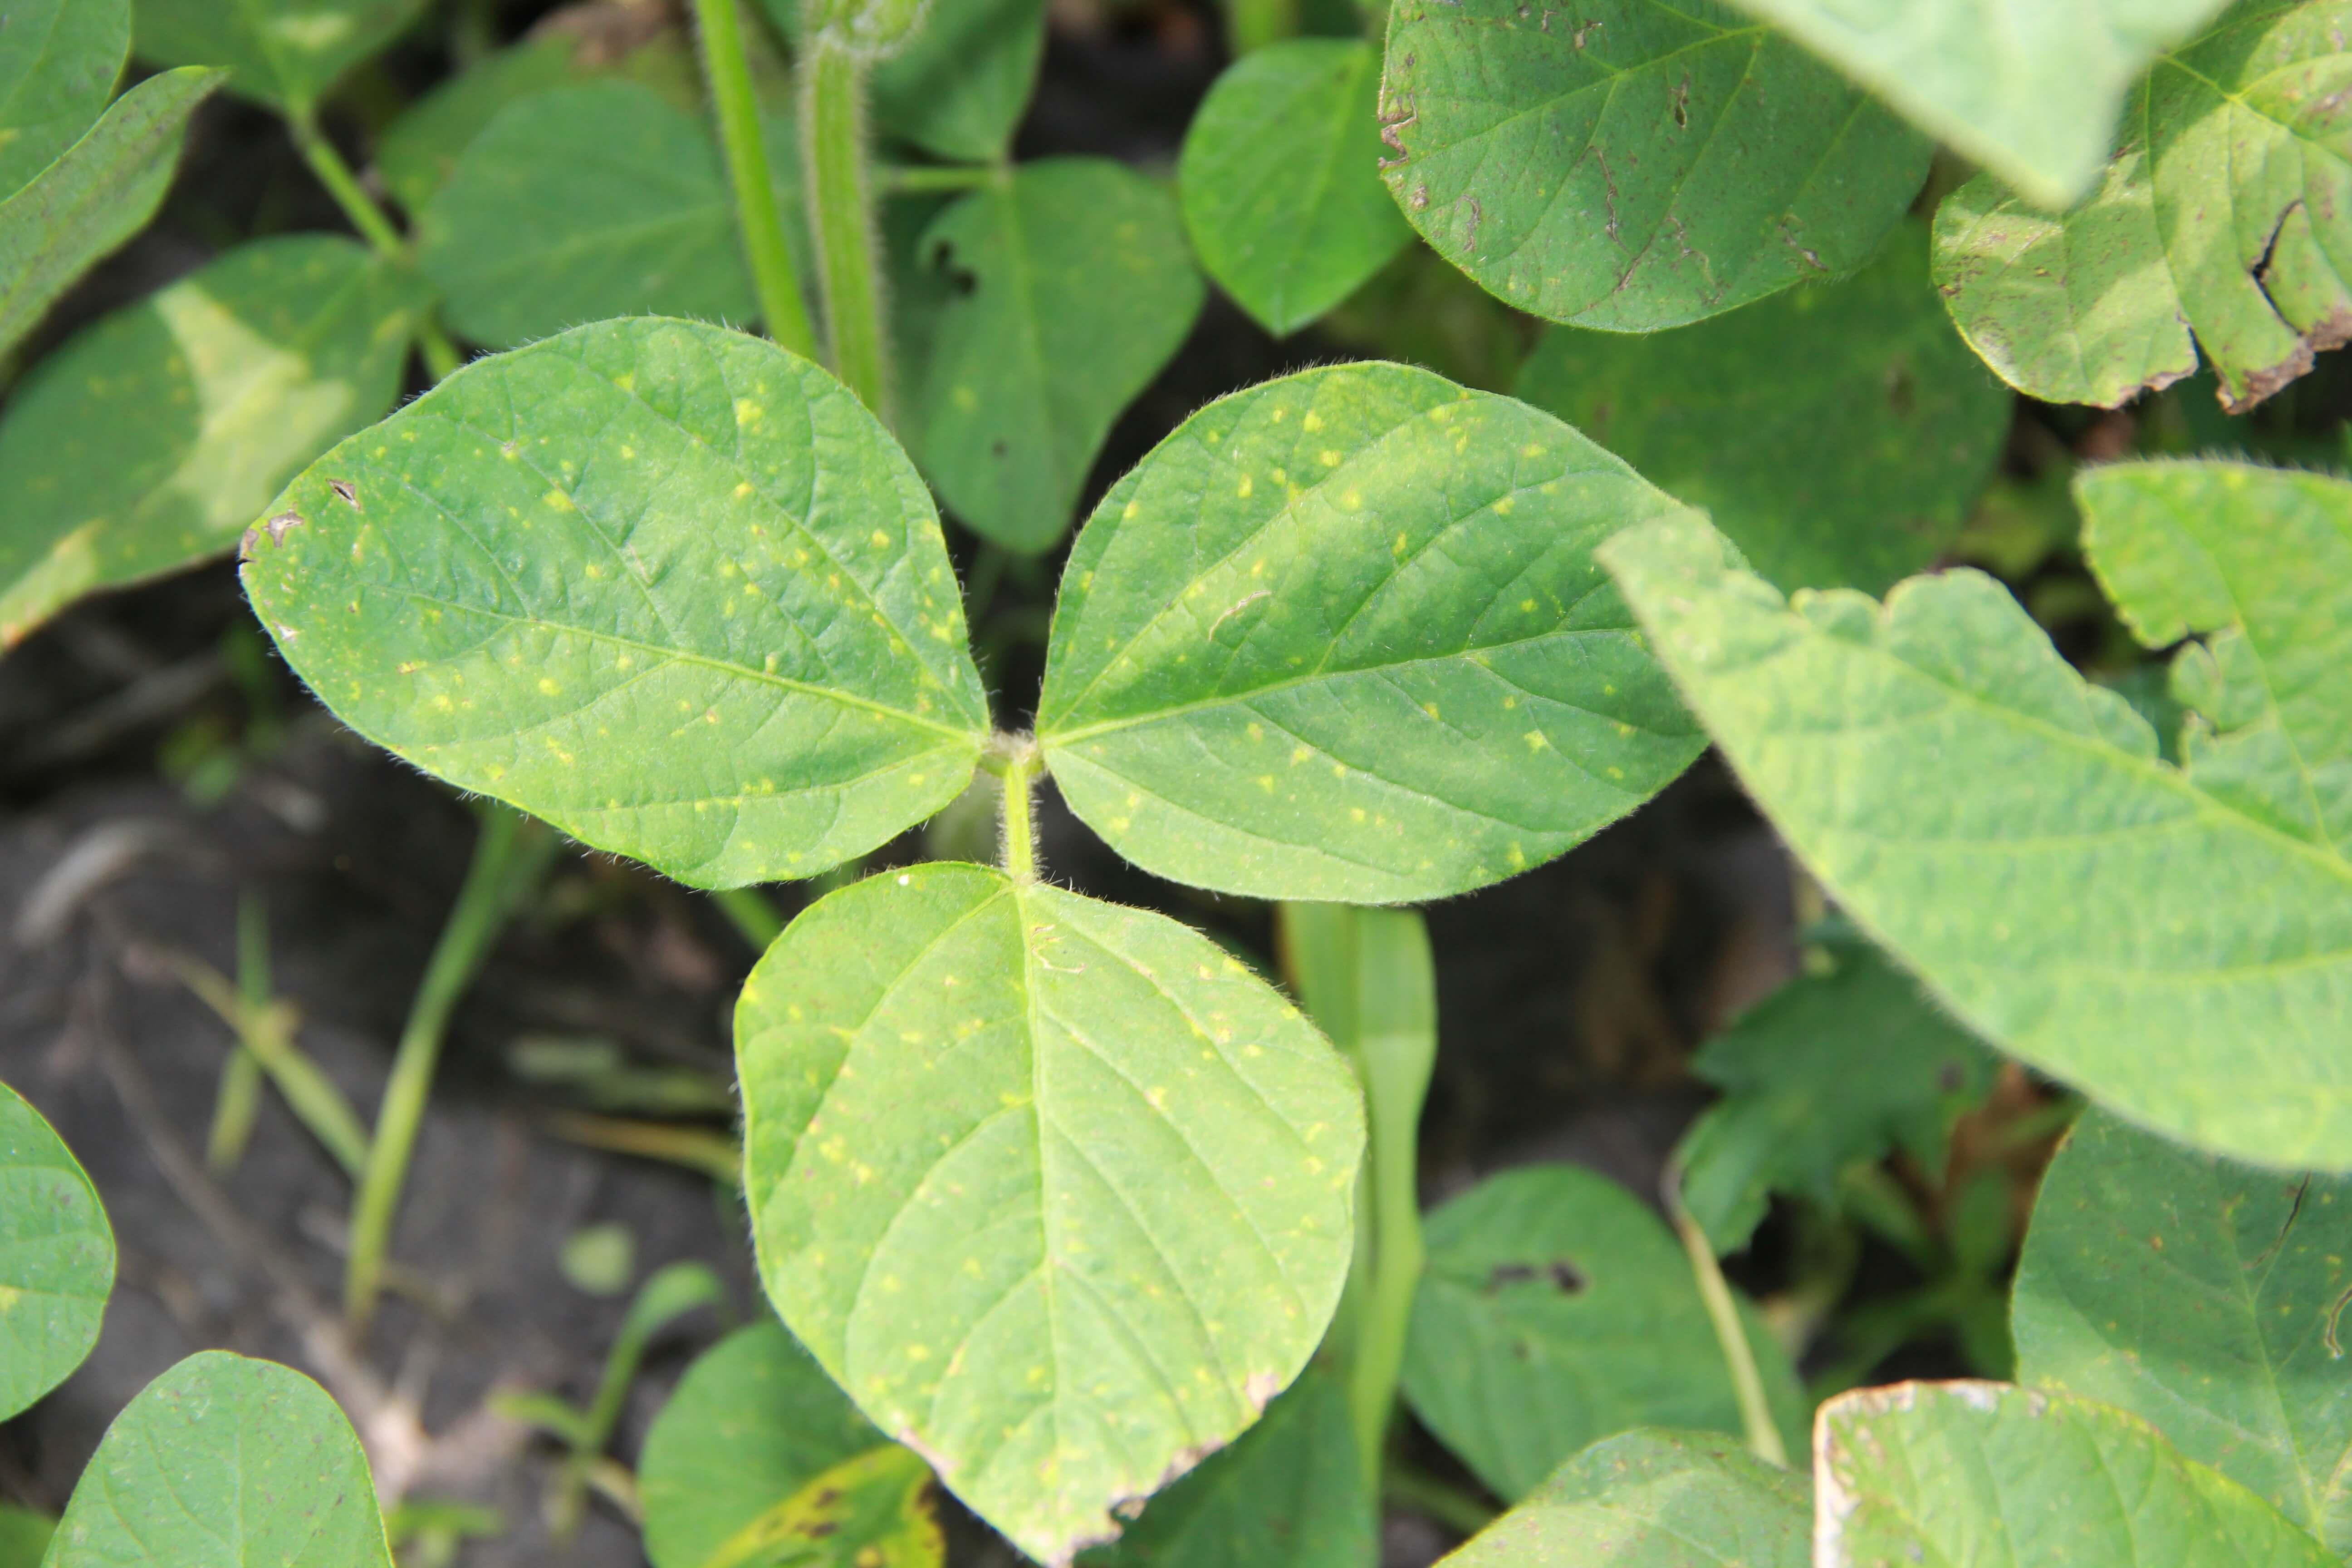Soyabean leaf: (224, 308, 1010, 901), (719, 859, 1375, 1568), (1040, 355, 1778, 914)
